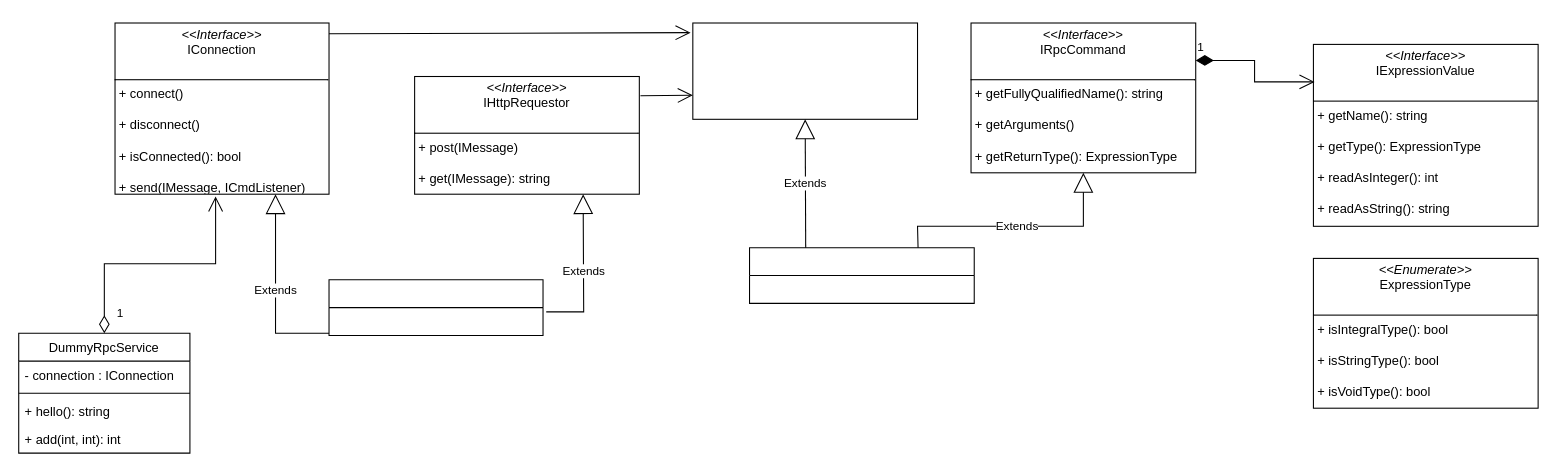
The diagram is 1557 pixels wide and 475 high, and some of its shapes have lost their labels. The centre of each missing label's shape, as x and y in pixels:
"<<Interface>> IMessage + serialize(): byte[]" belongs at point (805, 70).
"HttpRequestor" belongs at point (435, 307).
"IRpcMessage" belongs at point (861, 275).
